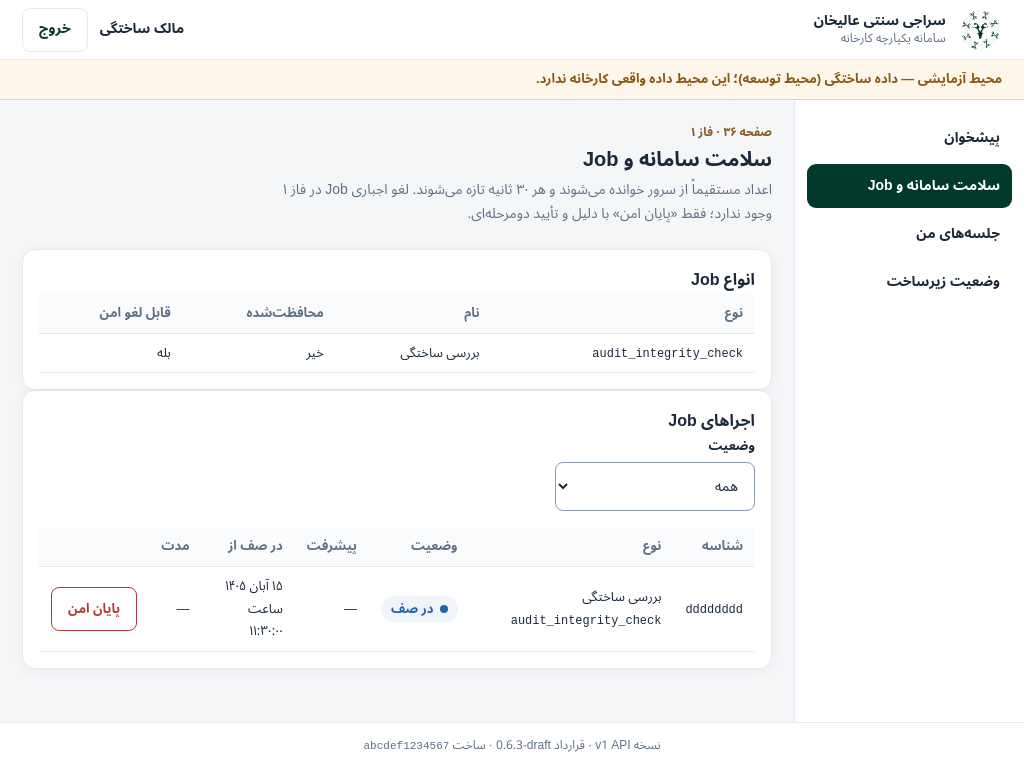
Test case: MFA step-up › 401 MFA_REQUIRED opens the step-up dialog, then the action is re-sent once with a new key
This screenshot has width=1024, height=768.
Click the button with test id "job-cancel": coordinates (94, 609) x1=51 y1=587 x2=137 y2=631
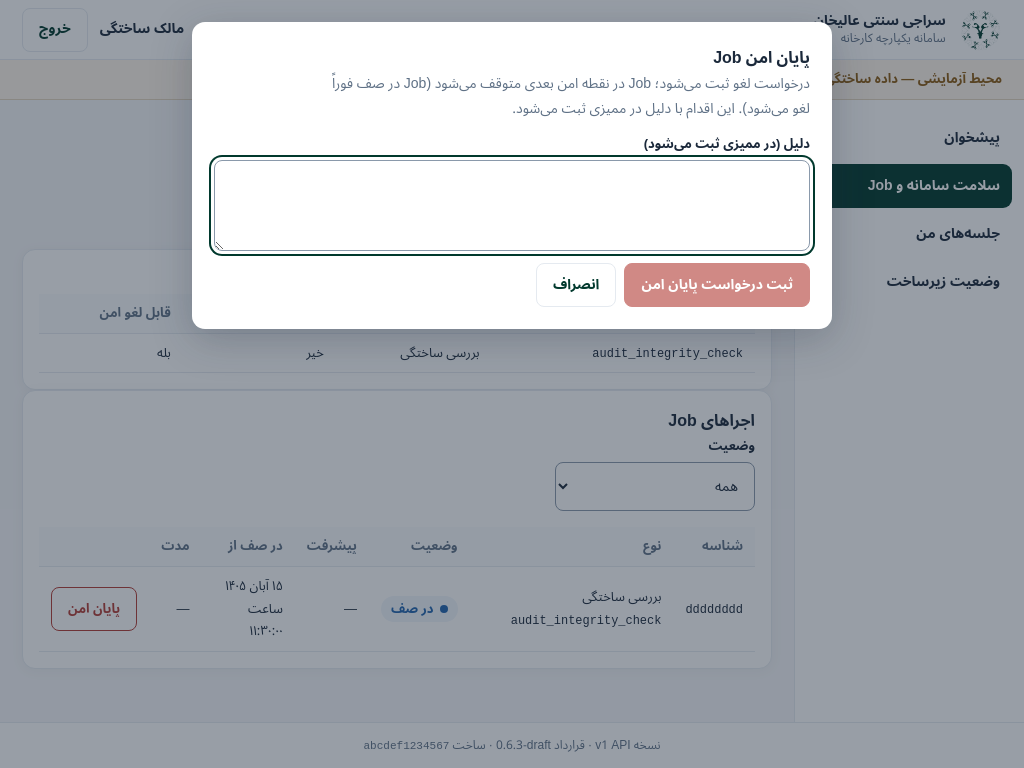
In the text box with test id "reason-input": coordinates (512, 206) x1=214 y1=160 x2=810 y2=251, type "پایان ساختگی"
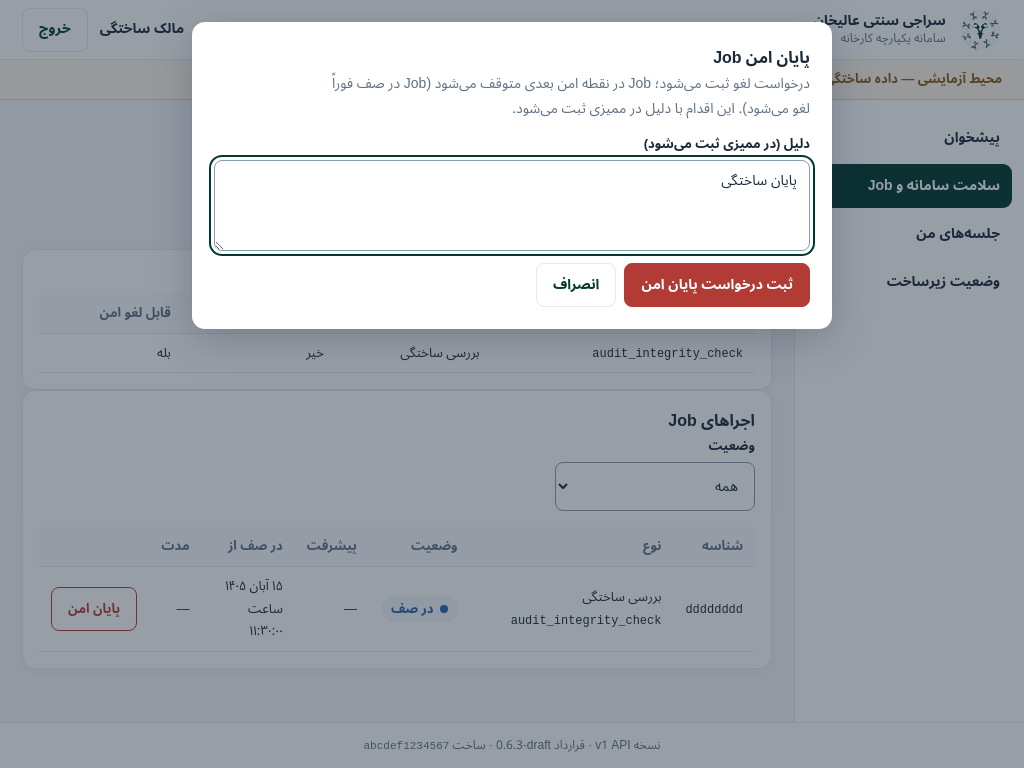
Click the button with test id "reason-submit": coordinates (717, 285) x1=624 y1=263 x2=810 y2=307
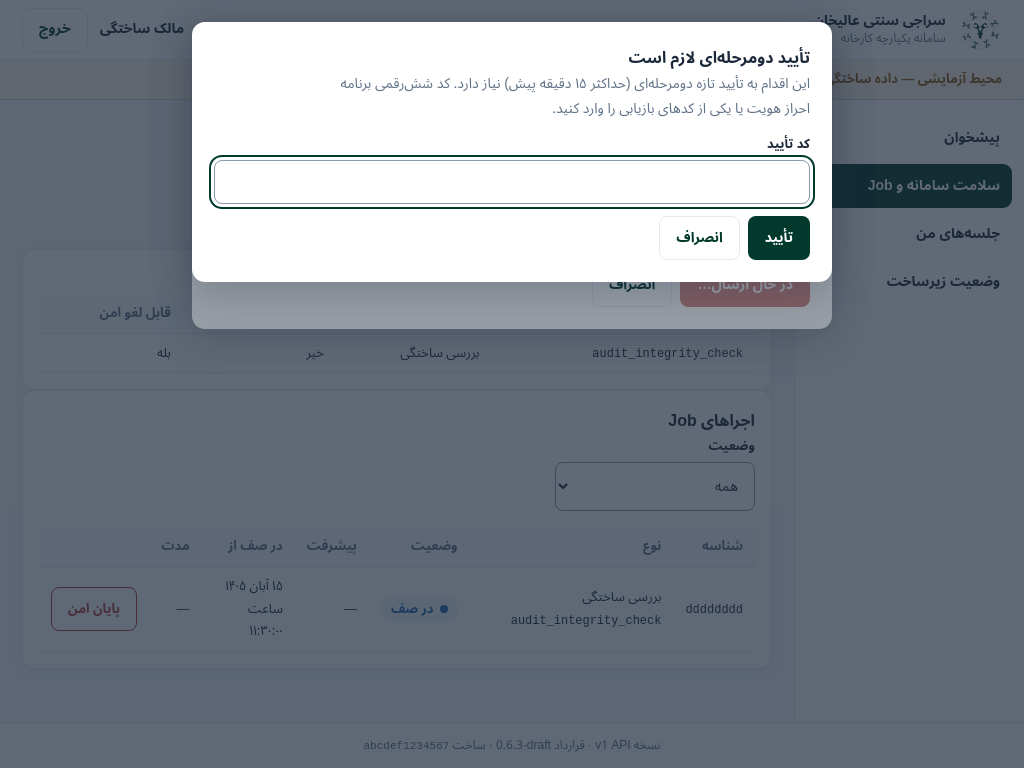
In the field with test id "step-up-code": coordinates (512, 182) x1=214 y1=160 x2=810 y2=204, type "123456"
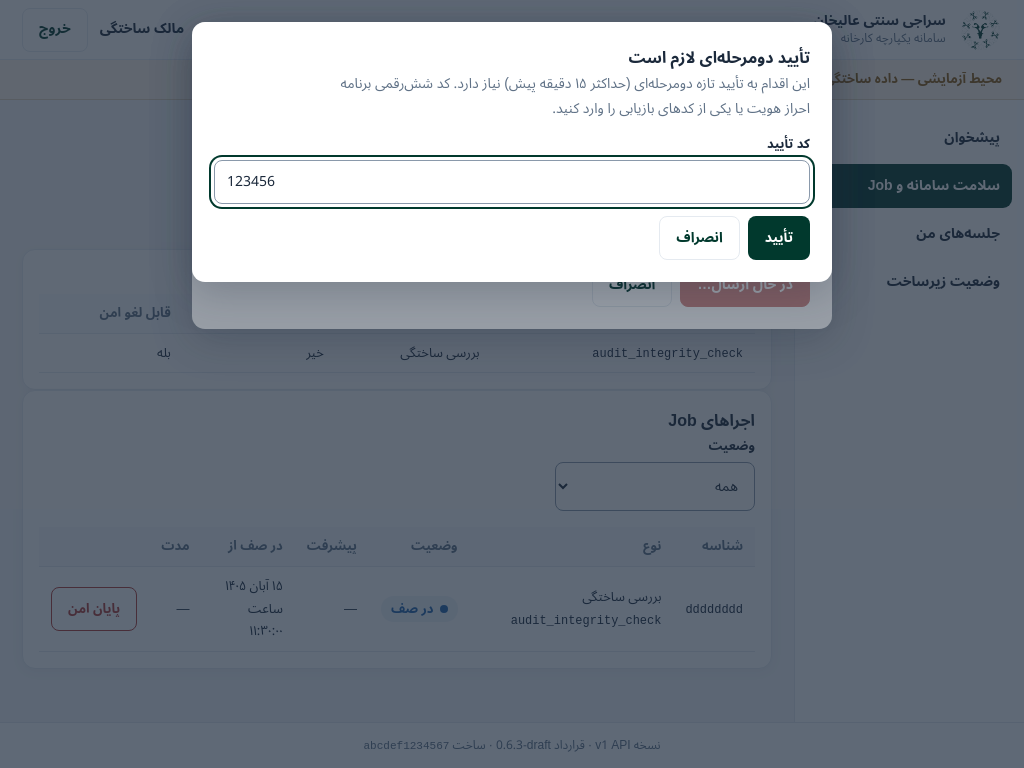
Click the button with test id "step-up-submit": coordinates (779, 238) x1=748 y1=216 x2=810 y2=260
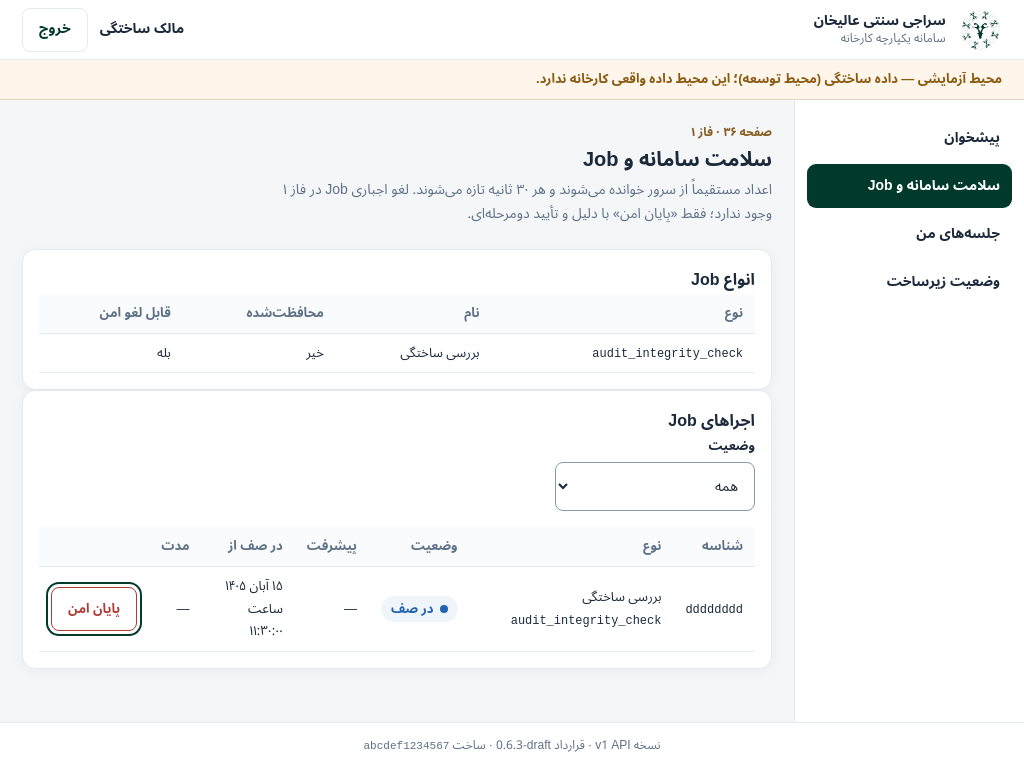
expect the dialog with test id "job-cancel-dialog" is gone: met
